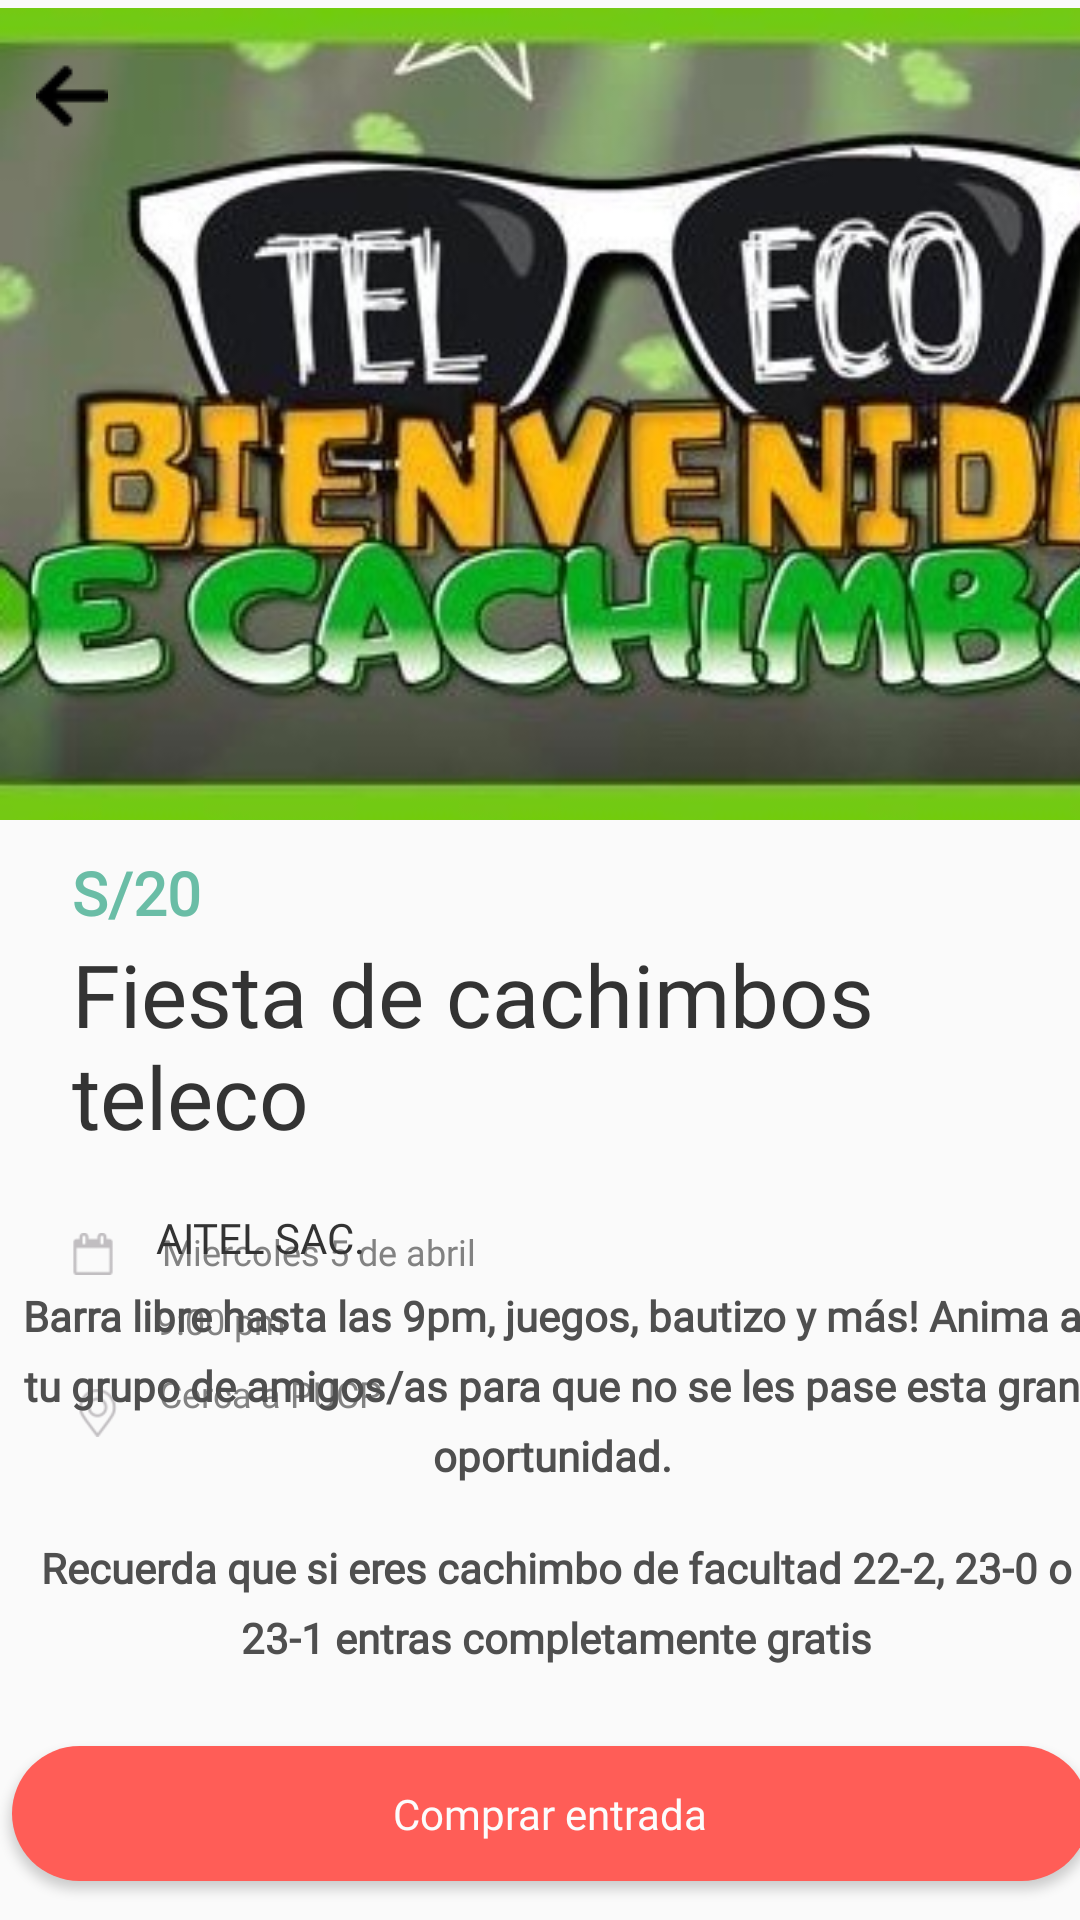

Where icons sit on this 1080 × 1920 app screen, as (x1, y1, x2, y2):
calendario: (73, 1233, 113, 1275)
flecha izquierda: (36, 65, 108, 127)
